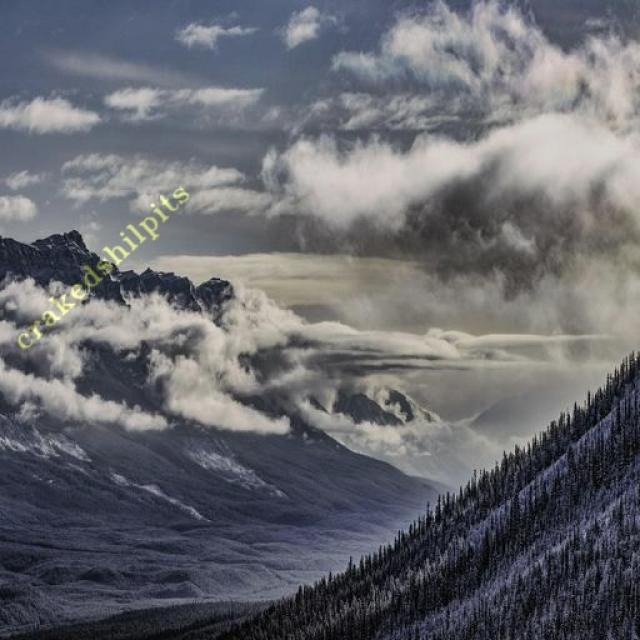watermark: (15, 171, 190, 356)
